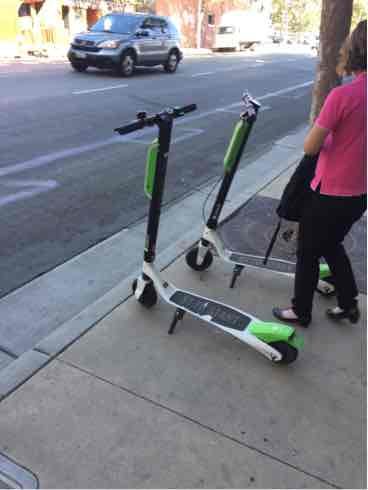scooter: (114, 97, 296, 369)
